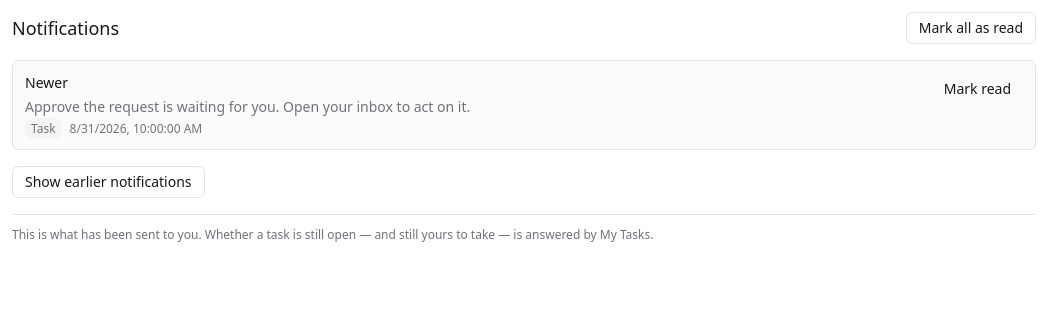
Test: NotificationCentrePage › appends the next page
Expected: the number of list items with test id "notification-row" is 1, [12,60,1036,150]
Click the button with test id "notifications-more".
click(108, 182)  # box [12,166,204,198]
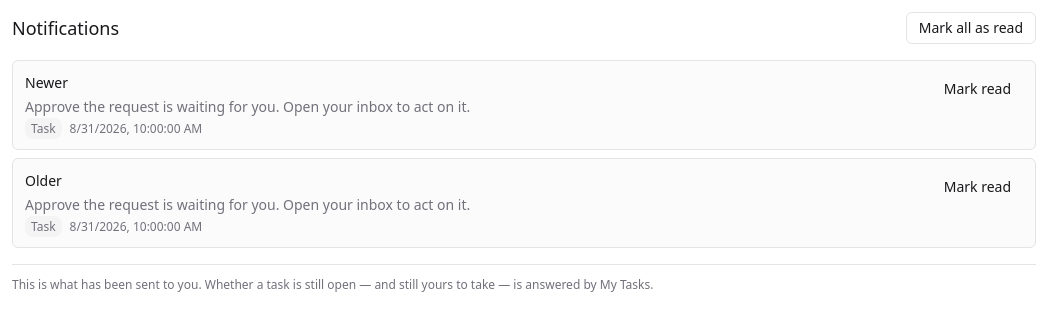
Expected: the list item with test id "notification-row" shows "Newer", [25,73,920,137]
Now the number of list items with test id "notification-row" is 2, box [12,60,1036,150]; [12,158,1036,248]
Now the list item with test id "notification-row" shows "Older", box [25,171,920,235]
